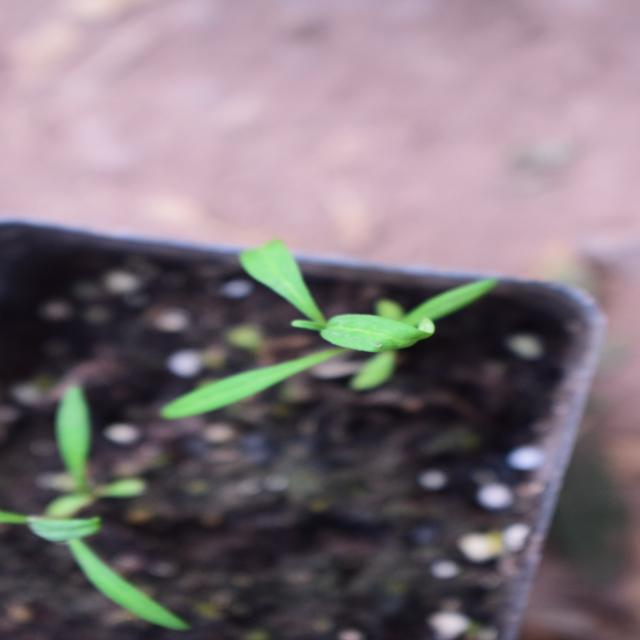white_smart_weed: (211, 130, 409, 500)
